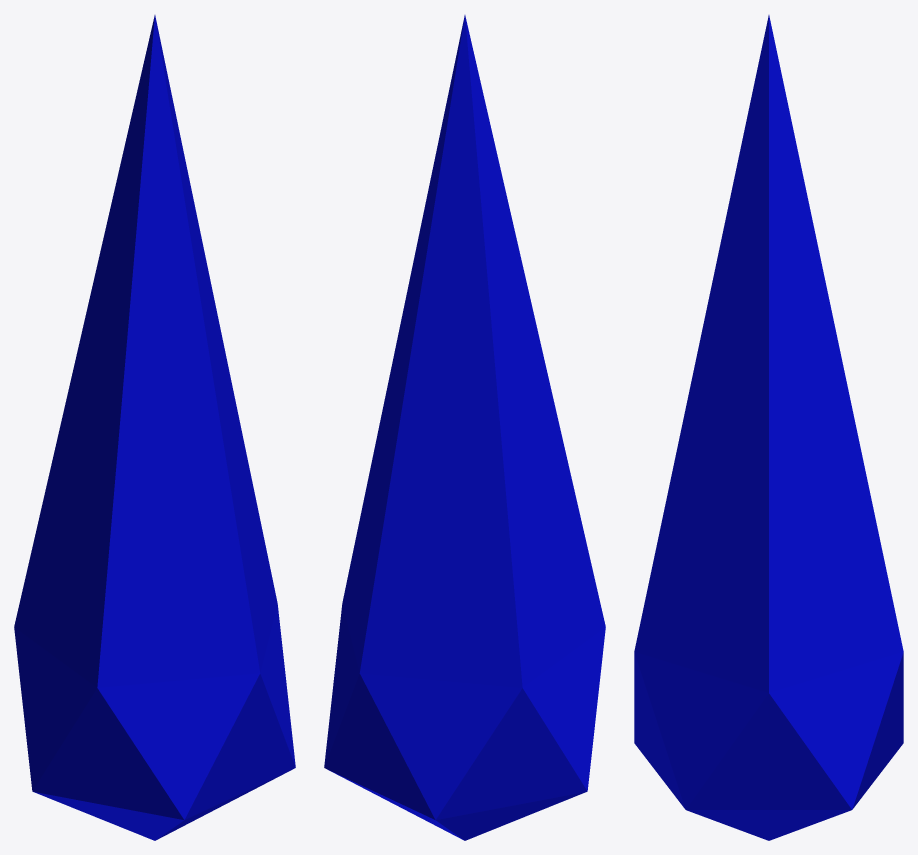
The model's file is Droplet.dae.
3 renders of one model, left to right at view 1: azimuth 30°, elevation 25°; view 2: azimuth 150°, elevation 25°; view 3: azimuth 270°, elevation 25°, orthographic.
Visible parts, largest first — view 1: Droplet; view 2: Droplet; view 3: Droplet.
Boxes of the visible parts, left/top/right/bottom form: Droplet: left=14, top=15, right=295, bottom=840; Droplet: left=324, top=15, right=605, bottom=840; Droplet: left=634, top=15, right=903, bottom=840.
Bounding box in the file's own units: 1.79 × 1.7 × 5.76.
